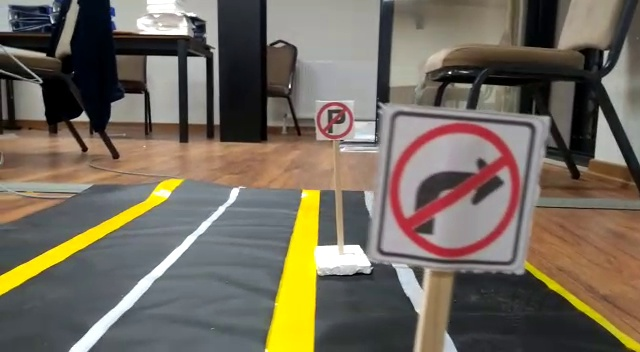park_yapilmaz: (315, 100, 355, 141)
saga_donulmez: (384, 105, 516, 265)
